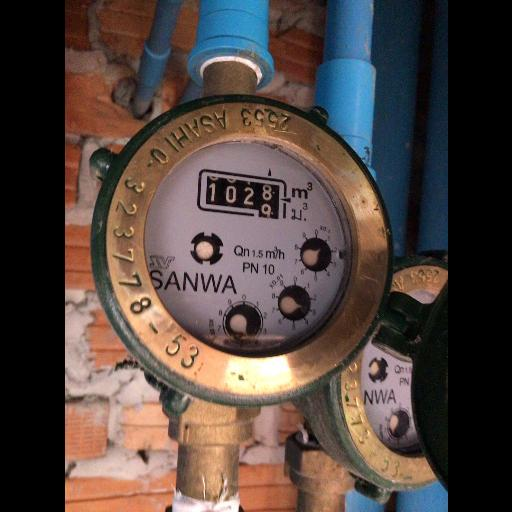0: (223, 177, 240, 207)
1: (204, 175, 220, 205)
2: (240, 180, 257, 209)
8: (258, 182, 277, 218)
border_water_meter_number: (194, 168, 293, 220)
